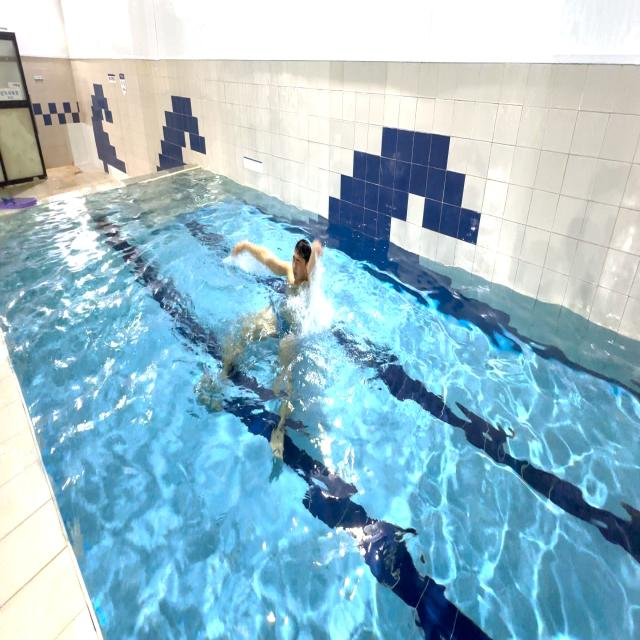Drowning: (201, 205, 342, 471)
